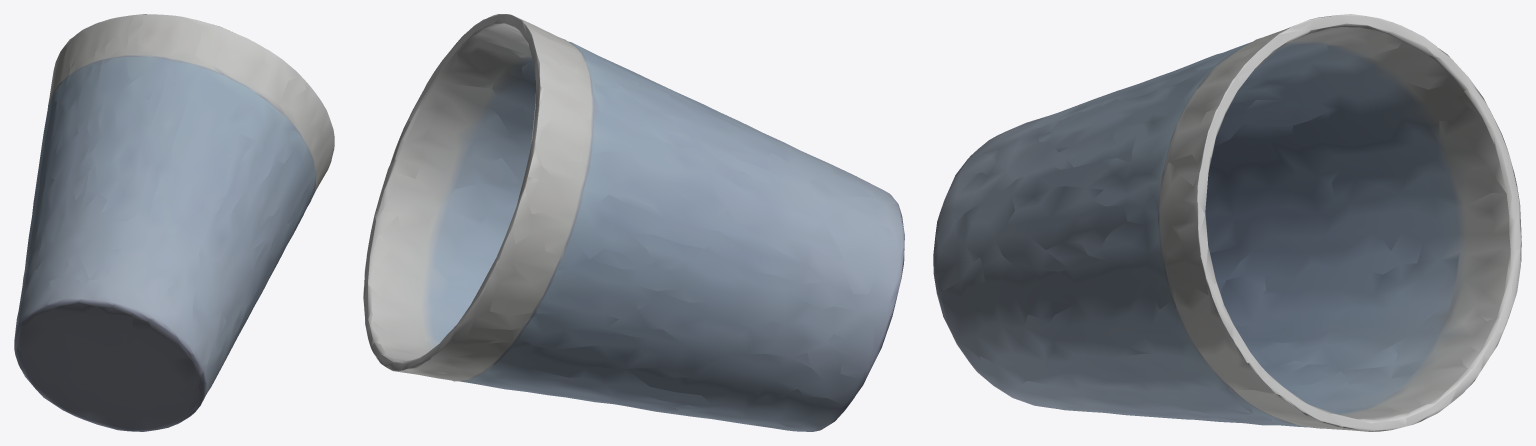
File: 0003_mask_004_blue_cup.glb
3 renders of one model, left to right at view 1: azimuth 30°, elevation 25°; view 2: azimuth 150°, elevation 25°; view 3: azimuth 270°, elevation 25°, orthographic. The views are drawn at different scales.
Visible parts, largest first — view 1: mask_004_object; view 2: mask_004_object; view 3: mask_004_object.
Boxes of the visible parts, <box> form: mask_004_object: <box>14,14,334,431</box>; mask_004_object: <box>363,14,904,431</box>; mask_004_object: <box>933,14,1521,431</box>.
Bounding box in the file's own units: 0.1879 × 0.1666 × 0.1899.
